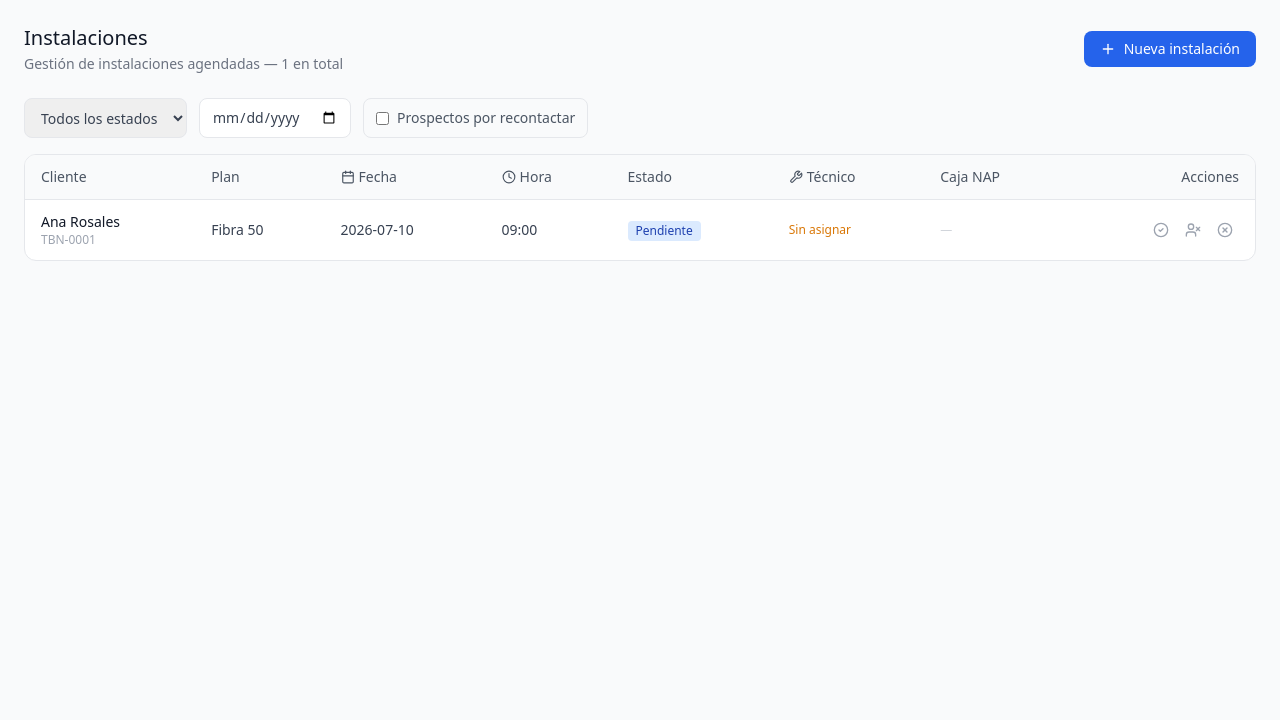
Test: InstallationsPage — TC-FE-INST-01 a TC-FE-INST-07 (red de seguridad refactor C2) › TC-FE-INST-07 — abre modal de cancelación con datos de la instalación
This screenshot has width=1280, height=720.
Expected: the text "Ana Rosales" is shown, [41, 212, 120, 231]
Click the button titled "Cancelar instalación" at (1225, 230), box [1211, 216, 1239, 244]
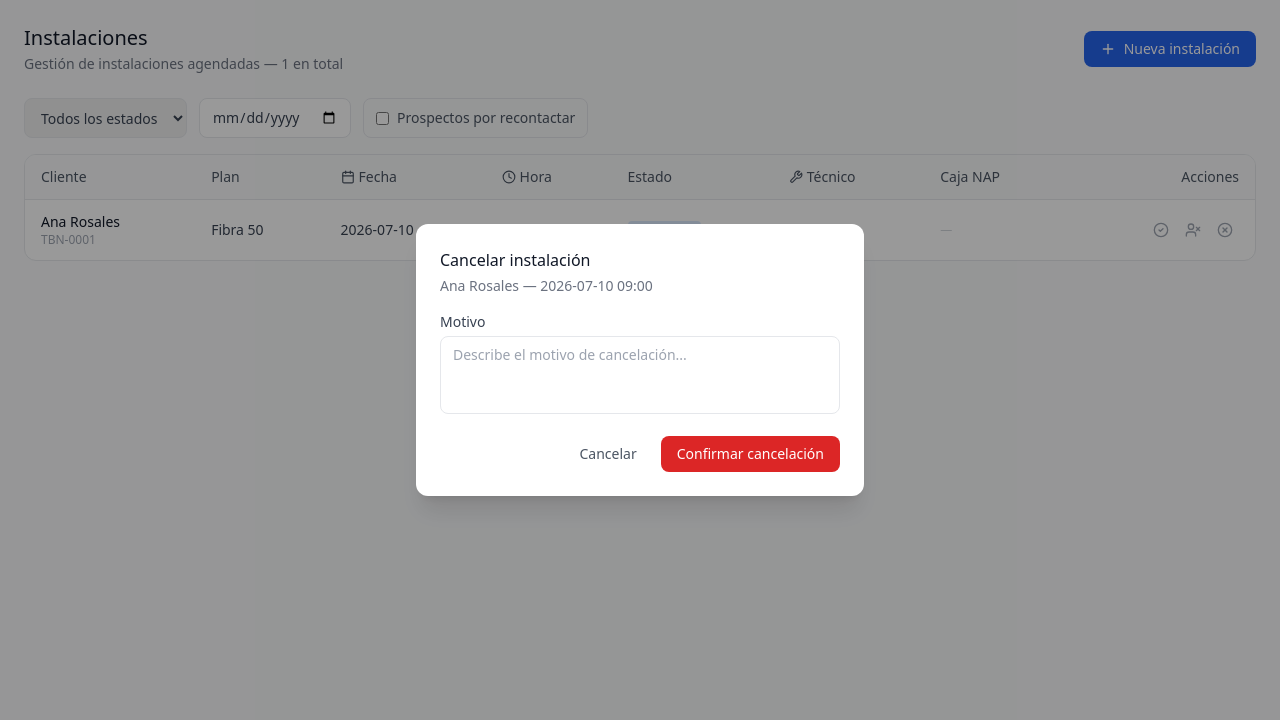
Now the heading "Cancelar instalación" is shown, box [440, 249, 590, 271]
Now the text "Ana Rosales — 2026-07-10 09:00" is shown, box [440, 276, 653, 295]
